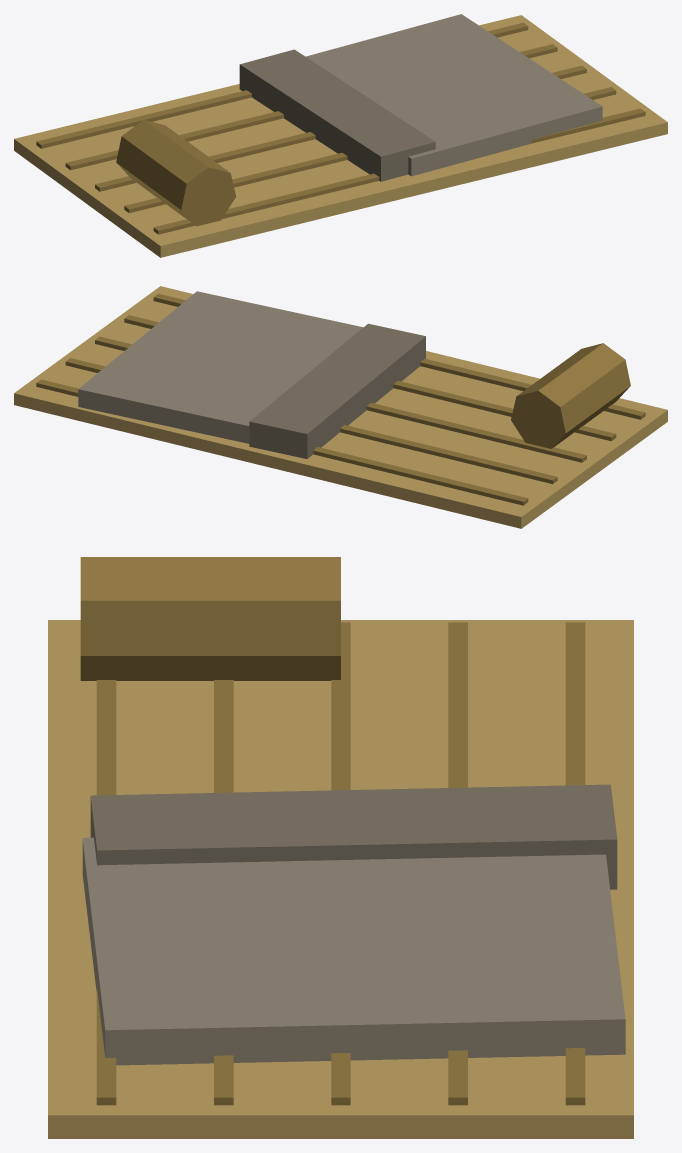
The model's file is prop_camp_mat.glb.
3 views of the same model, one above another, from view 1: azimuth 30°, elevation 25°; view 2: azimuth 150°, elevation 25°; view 3: azimuth 270°, elevation 25° (orthographic). The views are drawn at different scales.
Visible parts, largest first — view 1: prop_camp_mat; view 2: prop_camp_mat; view 3: prop_camp_mat.
Part boxes in pixels (left/top/right/bottom): prop_camp_mat: left=14, top=14, right=667, bottom=257; prop_camp_mat: left=14, top=286, right=667, bottom=528; prop_camp_mat: left=48, top=557, right=633, bottom=1138.
Bounding box in the file's own units: 1.8 × 0.24 × 0.9.
